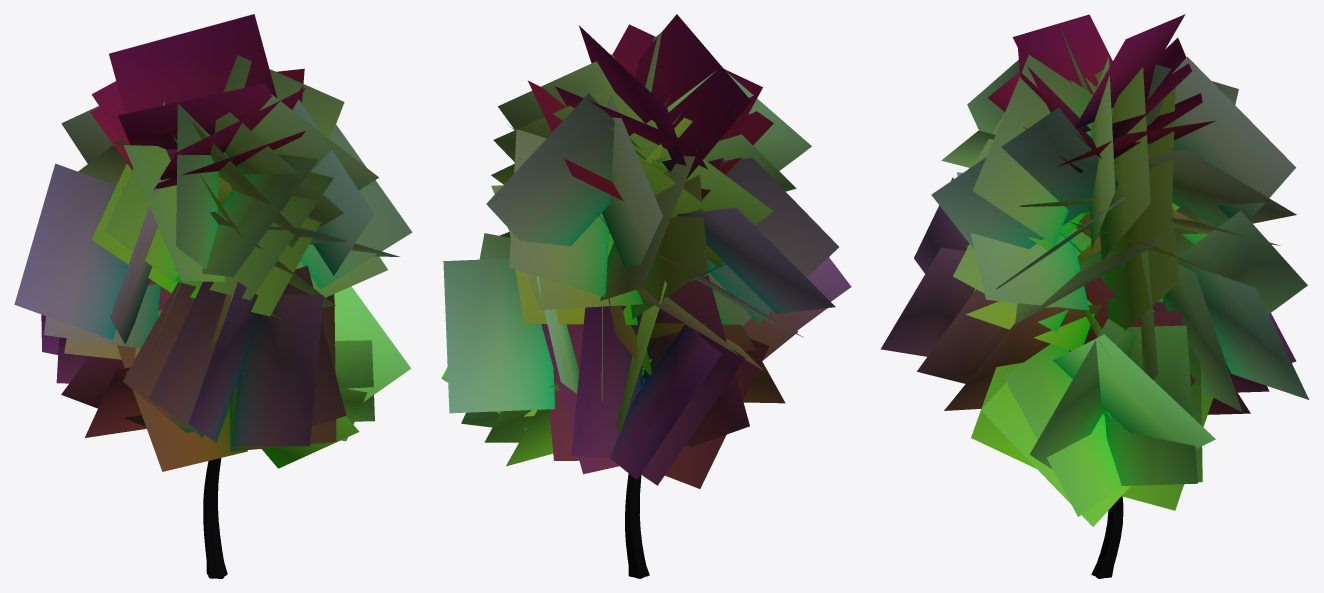
The model's file is URP_P15_Tree_2_LOD_1.fbx.
3 renders of one model, left to right at view 1: azimuth 30°, elevation 25°; view 2: azimuth 150°, elevation 25°; view 3: azimuth 270°, elevation 25°, orthographic. The views are drawn at different scales.
Visible parts, largest first — view 1: Tree_2_LOD_1; view 2: Tree_2_LOD_1; view 3: Tree_2_LOD_1.
Part boxes in pixels (x1,y1,x2,y2): Tree_2_LOD_1: (14,14,412,578); Tree_2_LOD_1: (441,14,851,578); Tree_2_LOD_1: (881,14,1309,578).
Size of the model in its own units: 511 by 738 by 513.
